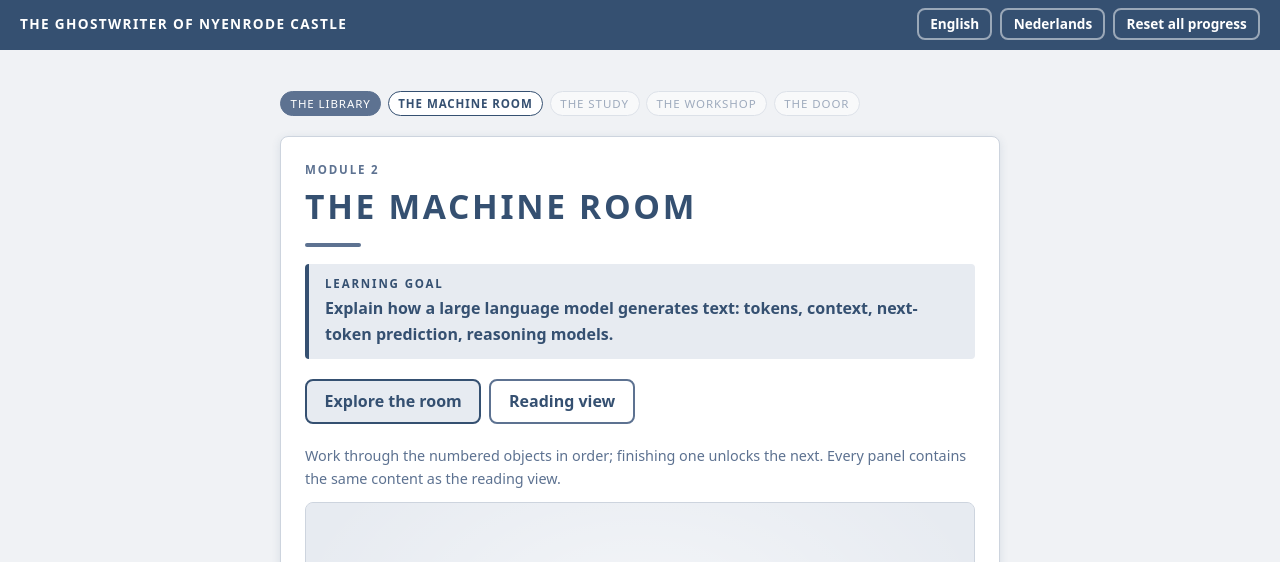
Test: Machine Room explorable scene (linear, default view) › opens as a scene with only the first hotspot unlocked; reading view is one toggle away
// The reading view remains the plain-text fallback.
Click the button "Reading view": [562, 401] box [489, 379, 635, 424]
(page scrolled)
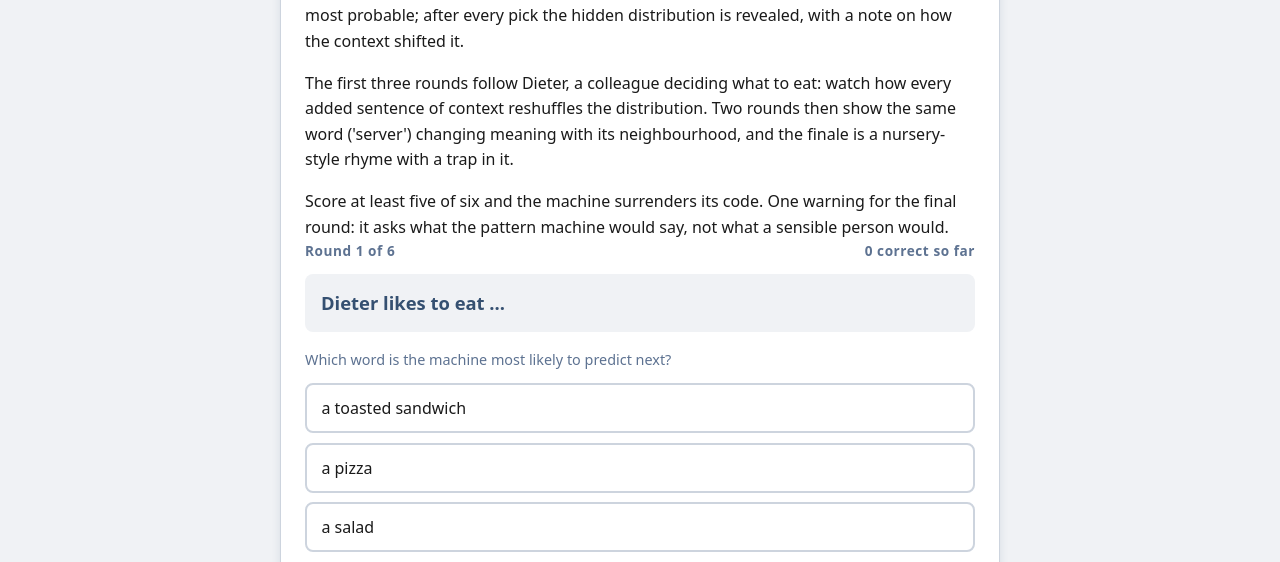
Result: the text "Which word is the machine most likely to predict next?" is shown at [305, 350, 671, 369]
